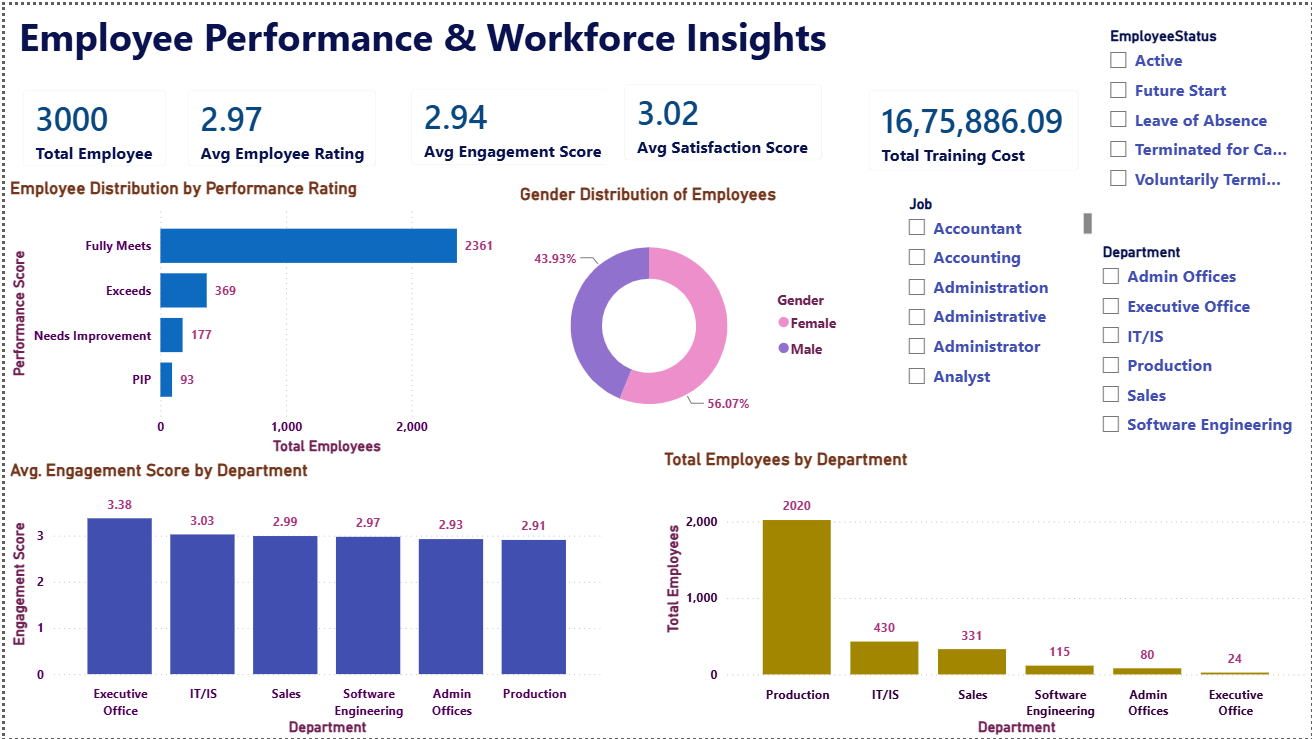

Layout of this report page (visuals, bound fields, positions):
{"tool":"powerbi","page":{"name":"Employee Performance","canvas":[1280,720],"ordinal":0},"visuals":[{"type":"textbox","box":[8.8,0,820.6,66.2],"z":0},{"type":"cardVisual","fields":{"Data":["CountNonNull(Employee.EmpID)"]},"box":[0,66.6,175.6,109],"z":1000},{"type":"cardVisual","fields":{"Data":["Avg(Employee.CurrentEmployeeRating)"]},"box":[162,66.6,219.6,109],"z":2000},{"type":"cardVisual","fields":{"Data":["Avg(Employee_engagement.EngagementScore)"]},"box":[381.6,65.1,234.7,109],"z":3000},{"type":"cardVisual","fields":{"Data":["Sum(T&D.Training Cost)"]},"box":[829.8,66.6,240.8,113.6],"z":4000},{"type":"cardVisual","fields":{"Data":["Avg(Employee_engagement.SatisfactionScore)"]},"box":[589,60.6,228.6,109],"z":5000},{"type":"columnChart","fields":{"Category":["Employee.Department"],"Y":["CountNonNull(Employee.EmpID)"]},"box":[640.5,434.6,639,284.7],"z":6000},{"type":"donutChart","title":"Gender Distribution of Employees","fields":{"Y":["CountNonNull(Employee.EmpID)"],"Category":["Employee.Gender"]},"box":[499.7,175.6,330.1,258.9],"z":7000},{"type":"clusteredBarChart","title":"Employee Distribution by Performance Rating","fields":{"Category":["Employee.PerformanceScore"],"Y":["CountNonNull(Employee.EmpID)"]},"box":[0,169.6,499.7,275.6],"z":8000},{"type":"clusteredColumnChart","title":"Avg. Engagement Score by Department","fields":{"Category":["Employee.Department"],"Y":["Avg(Employee_engagement.EngagementScore)"]},"box":[0,445.2,589,274.1],"z":9000},{"type":"slicer","fields":{"Values":["Employee.Department"]},"box":[1063,228.6,209,205.9],"z":10000},{"type":"slicer","fields":{"Values":["Employee.Job"]},"box":[873.7,180.2,196.8,205.9],"z":11000},{"type":"slicer","fields":{"Values":["Employee.EmployeeStatus"]},"box":[1070.5,16.7,193.8,175.6],"z":12000}]}

Visuals, with their boxes in screenshot pixels (x1, y1, x2, y2), scaled from the page's 1280x720 canvas onto the 1312x739 screenshot:
textbox: <bbox>9, 0, 850, 68</bbox>
cardVisual - CountNonNull(Employee.EmpID): <bbox>0, 68, 180, 180</bbox>
cardVisual - Avg(Employee.CurrentEmployeeRating): <bbox>166, 68, 391, 180</bbox>
cardVisual - Avg(Employee_engagement.EngagementScore): <bbox>391, 67, 632, 179</bbox>
cardVisual - Sum(T&D.Training Cost): <bbox>851, 68, 1097, 185</bbox>
cardVisual - Avg(Employee_engagement.SatisfactionScore): <bbox>604, 62, 838, 174</bbox>
columnChart - Employee.Department x CountNonNull(Employee.EmpID): <bbox>657, 446, 1311, 738</bbox>
"Gender Distribution of Employees" donutChart: <bbox>512, 180, 851, 446</bbox>
"Employee Distribution by Performance Rating" clusteredBarChart: <bbox>0, 174, 512, 457</bbox>
"Avg. Engagement Score by Department" clusteredColumnChart: <bbox>0, 457, 604, 738</bbox>
slicer - Employee.Department: <bbox>1090, 235, 1304, 446</bbox>
slicer - Employee.Job: <bbox>896, 185, 1097, 396</bbox>
slicer - Employee.EmployeeStatus: <bbox>1097, 17, 1296, 197</bbox>
